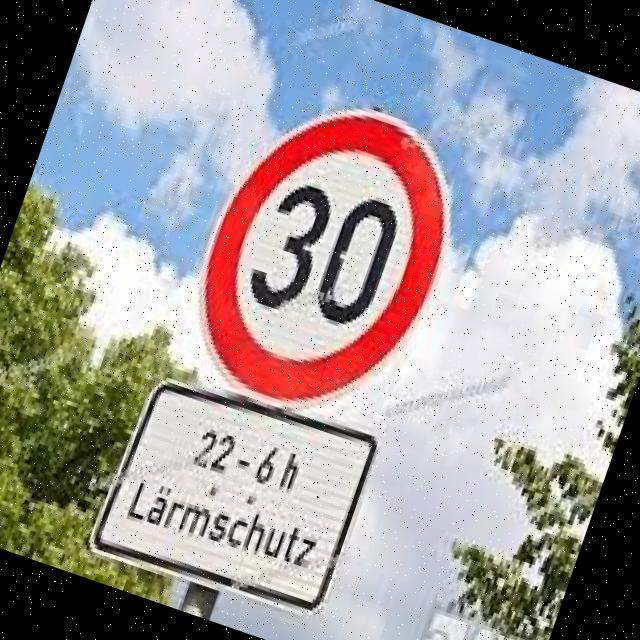speed_limit_30: (154, 63, 488, 450)
